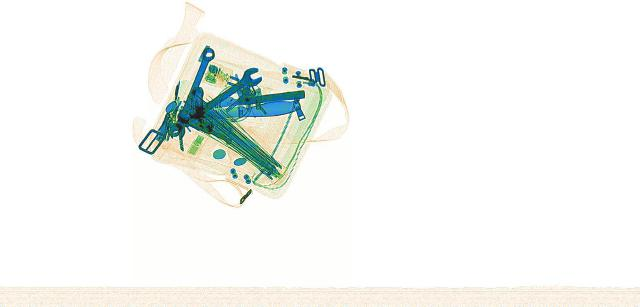Gun: (190, 86, 230, 142)
Knife: (182, 98, 302, 121), (182, 89, 306, 111)
Wrench: (156, 66, 274, 136), (168, 47, 218, 135)
